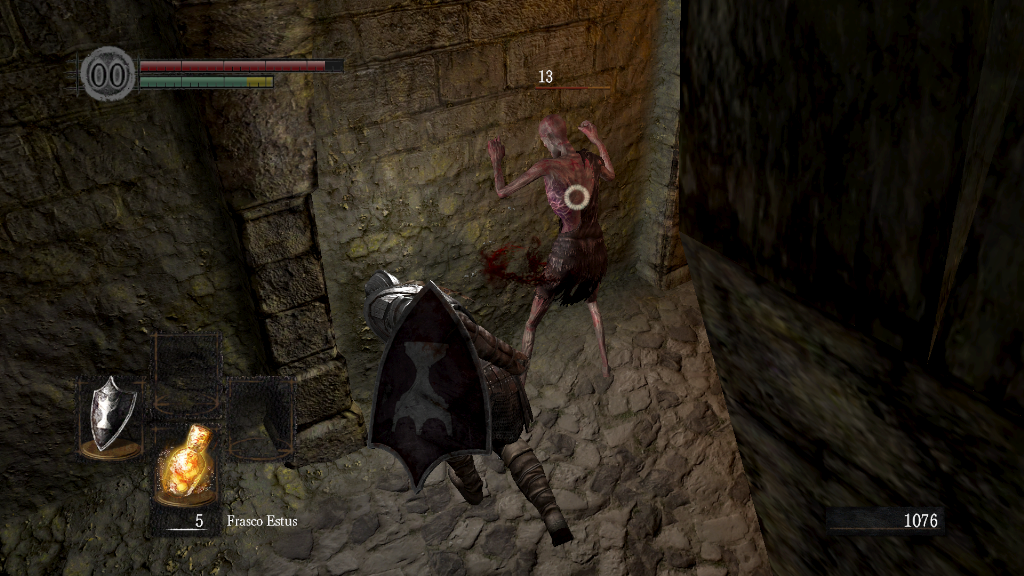health: (138, 58, 343, 71)
hollow: (476, 119, 620, 386)
humanity: (80, 45, 136, 102)
player: (360, 270, 577, 550)
souls: (825, 506, 945, 536)
stamina: (138, 74, 274, 88)
